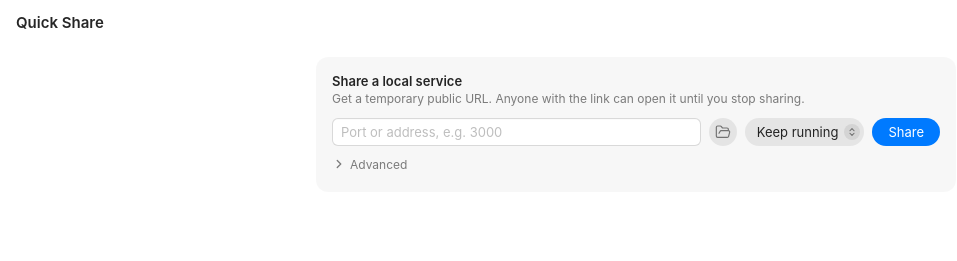
Test: QuickSharePage › shows validation errors next to the field
In the dropdown labelled "Port or address": (516, 132) [332,118,701,146], type "99999"
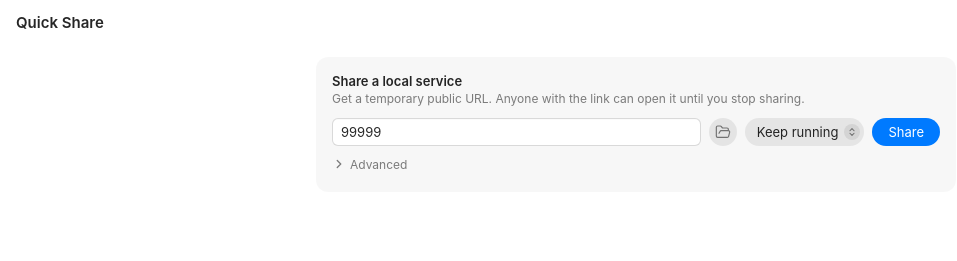
Click the button "Share": (906, 132) [872,118,940,146]
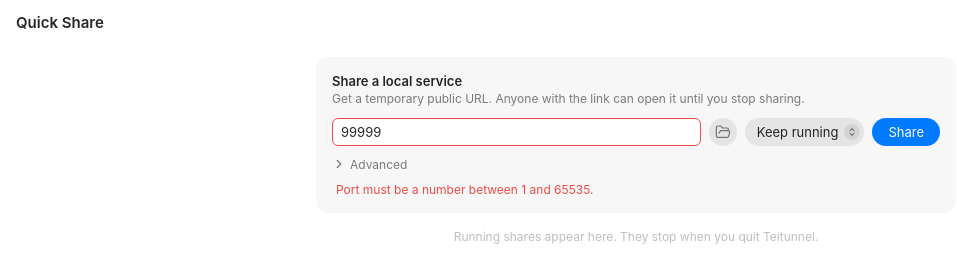
Expected: the message shows "between 1 and 65535", [336,182,594,197]
